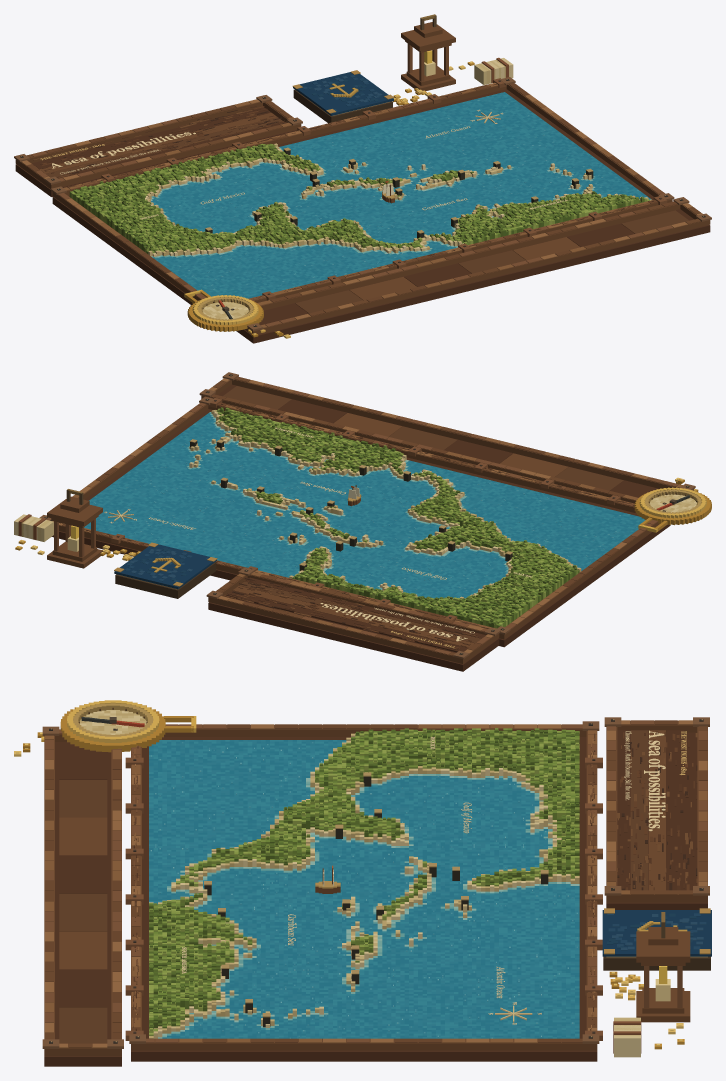
File: west-indies-chart.glb
3 renders of one model, top to bottom at view 1: azimuth 30°, elevation 25°; view 2: azimuth 150°, elevation 25°; view 3: azimuth 270°, elevation 25°, orthographic. The views are drawn at different scales.
Visible parts, largest first — view 1: Tiled Caribbean water, Raised coastline, Course control plinth, Carved oak frame, Title plaque, Navigation atlas, Highland voxels, Harbor lantern, Brass compass, Port moorings, Water glints, Rolled chart (+1 smaller); view 2: Tiled Caribbean water, Raised coastline, Course control plinth, Title plaque, Carved oak frame, Navigation atlas, Highland voxels, Harbor lantern, Brass compass, Port moorings, Water glints, Rolled chart (+1 smaller); view 3: Tiled Caribbean water, Raised coastline, Carved oak frame, Course control plinth, Title plaque, Highland voxels, Brass compass, Navigation atlas, Harbor lantern, Port moorings, Water glints, Rolled chart (+2 smaller).
Part boxes in pixels (<box>): Tiled Caribbean water: <box>151,92,651,298</box>; Raised coastline: <box>69,143,651,256</box>; Course control plinth: <box>230,197,711,343</box>; Carved oak frame: <box>51,77,674,306</box>; Title plaque: <box>14,95,302,196</box>; Navigation atlas: <box>292,70,394,123</box>; Highland voxels: <box>73,145,646,248</box>; Harbor lantern: <box>401,14,455,91</box>; Brass compass: <box>184,289,263,331</box>; Port moorings: <box>205,147,593,238</box>; Water glints: <box>155,100,638,295</box>; Rolled chart: <box>474,57,513,84</box>; Tiled Caribbean water: <box>84,412,645,598</box>; Raised coastline: <box>189,407,581,628</box>; Course control plinth: <box>199,372,695,504</box>; Title plaque: <box>206,567,500,671</box>; Carved oak frame: <box>39,396,670,647</box>; Navigation atlas: <box>114,542,217,598</box>; Highland voxels: <box>217,407,577,624</box>; Harbor lantern: <box>47,489,102,568</box>; Brass compass: <box>634,487,711,532</box>; Port moorings: <box>189,439,512,571</box>; Water glints: <box>94,424,637,598</box>; Rolled chart: <box>14,514,53,541</box>; Tiled Caribbean water: <box>149,740,579,1038</box>; Raised coastline: <box>149,728,579,1038</box>; Carved oak frame: <box>125,721,602,1061</box>; Course control plinth: <box>42,726,123,1066</box>; Title plaque: <box>604,717,709,909</box>; Highland voxels: <box>149,728,578,1030</box>; Brass compass: <box>60,700,196,752</box>; Navigation atlas: <box>602,908,711,970</box>; Harbor lantern: <box>636,912,690,1022</box>; Port moorings: <box>204,772,548,1027</box>; Water glints: <box>150,742,577,1038</box>; Rolled chart: <box>613,1017,641,1057</box>.
Bounding box in the file's own units: 136 × 19.25 × 117.
